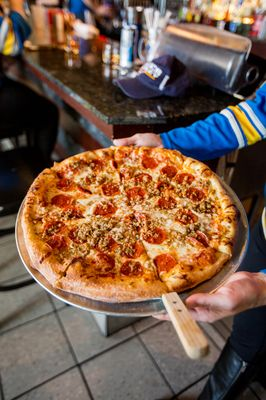curry: (7, 0, 263, 141)
sandwich: (20, 145, 239, 302)
